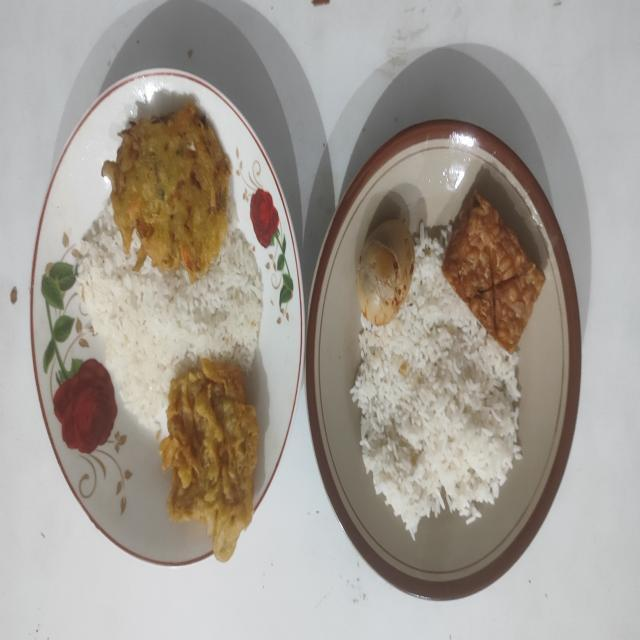nasi_putih: (350, 226, 521, 538), (76, 204, 264, 430)
tempe_goreng: (442, 190, 545, 353)
